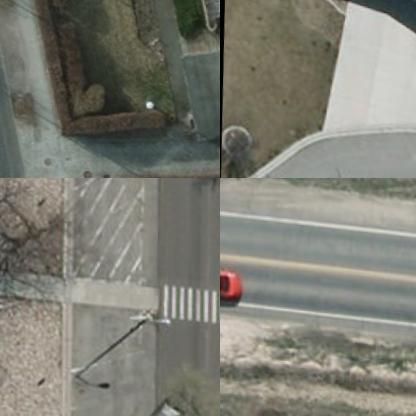car: (119, 387, 192, 415), (220, 259, 245, 299)
